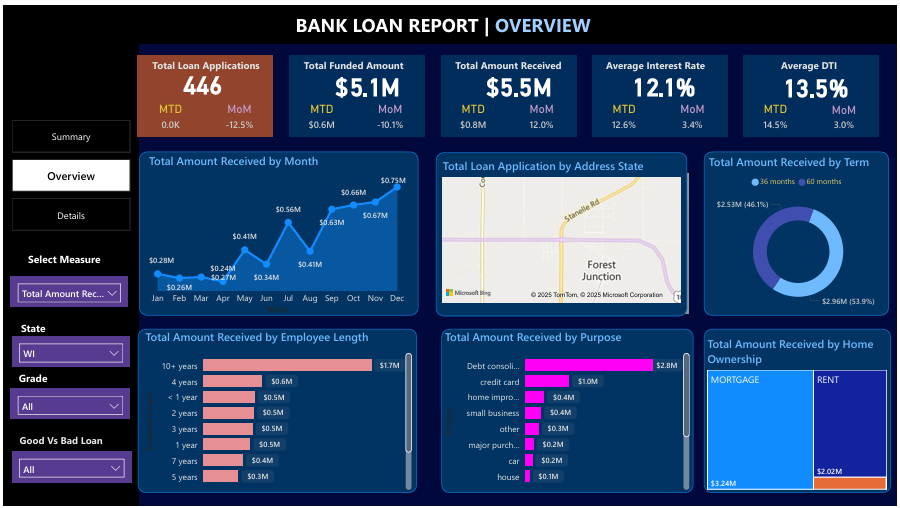

What the dashboard file says about the page in this screenshot:
{"tool":"powerbi","page":{"name":"Overview","canvas":[1280,720],"ordinal":1},"visuals":[{"type":"shape","box":[0,55.5,194.2,664.5],"z":0},{"type":"shape","box":[410.2,71.3,193.7,117],"z":0,"group":"g3"},{"type":"shape","box":[626.7,71.3,193.7,117],"z":0,"group":"g4"},{"type":"shape","box":[843.2,71.3,193.7,117],"z":0,"group":"g5"},{"type":"shape","box":[192.3,71.4,193.7,117],"z":0,"group":"g1"},{"type":"shape","box":[1059.7,71.9,193.7,117],"z":0,"group":"g6"},{"type":"shape","box":[0,0,1280.3,55],"z":1000},{"type":"card","fields":{"Values":["bank_loan_data.Total Loan Application"]},"box":[228.8,76.7,113.6,69.9],"z":1000,"group":"g1"},{"type":"card","fields":{"Values":["bank_loan_data.Total Funded Amount"]},"box":[447.1,82,147.9,64.6],"z":1000,"group":"g3"},{"type":"card","fields":{"Values":["bank_loan_data.Total Amount Received"]},"box":[663.6,82,147.9,64.6],"z":1000,"group":"g4"},{"type":"card","fields":{"Values":["bank_loan_data.Avg Interest Rate"]},"box":[872.1,82.5,147.9,64.6],"z":1000,"group":"g5"},{"type":"card","fields":{"Values":["bank_loan_data.Avg DTI"]},"box":[1088.6,83.1,147.9,64.6],"z":1000,"group":"g6"},{"type":"textbox","box":[204.7,71.3,197.8,40.3],"z":2000,"group":"g1"},{"type":"textbox","box":[420.9,71.3,197.8,40.3],"z":2000,"group":"g3"},{"type":"textbox","box":[637.4,71.3,197.8,40.3],"z":2000,"group":"g4"},{"type":"textbox","box":[853.9,71.3,197.8,40.3],"z":2000,"group":"g5"},{"type":"textbox","box":[1070.1,71.3,169.4,40.3],"z":2000,"group":"g6"},{"type":"textbox","box":[21.7,347.3,136.3,41],"z":2000,"group":"g8"},{"type":"textbox","box":[12.1,447.4,95.3,31.4],"z":2000,"group":"g7"},{"type":"textbox","box":[12.1,517.4,83.2,31.4],"z":2000},{"type":"card","title":"MTD","fields":{"Values":["bank_loan_data.MTD Loan Applications"]},"box":[204.7,137.2,69.5,51.1],"z":3000,"group":"g1"},{"type":"card","title":"MTD","fields":{"Values":["bank_loan_data.MTD Funded Applications"]},"box":[420.9,137.2,69.5,51.1],"z":3000,"group":"g3"},{"type":"card","title":"MTD","fields":{"Values":["bank_loan_data.MTD Total Amount Received"]},"box":[637.4,137.2,69.5,51.1],"z":3000,"group":"g4"},{"type":"card","title":"MTD","fields":{"Values":["bank_loan_data.MTD Average Interest Rate"]},"box":[853.9,137.2,69.5,51.1],"z":3000,"group":"g5"},{"type":"card","title":"MTD","fields":{"Values":["bank_loan_data.MTD Average DTI"]},"box":[1070.4,137.8,69.5,51.1],"z":3000,"group":"g6"},{"type":"textbox","box":[9.6,607.8,156.8,31.4],"z":3000},{"type":"group","id":"g1","title":"Group 2","box":[192.3,71.3,210.2,117.1],"z":3005,"group":"g2"},{"type":"card","title":"MoM","fields":{"Values":["bank_loan_data.MoM Loan Applications"]},"box":[303,138.2,69.5,49.8],"z":4000,"group":"g1"},{"type":"card","title":"MoM","fields":{"Values":["bank_loan_data.MoM Total Funded Amount"]},"box":[519.1,138.2,69.5,49.8],"z":4000,"group":"g3"},{"type":"card","title":"MoM","fields":{"Values":["bank_loan_data.MoM Total Amount Received"]},"box":[735.6,138.2,69.5,49.8],"z":4000,"group":"g4"},{"type":"card","title":"MoM","fields":{"Values":["bank_loan_data.MoM Average Interest Rate"]},"box":[952.1,138.2,69.5,49.8],"z":4000,"group":"g5"},{"type":"card","title":"MoM","fields":{"Values":["bank_loan_data.MoM Average DTI"]},"box":[1168.6,138.9,69.5,49.8],"z":4000,"group":"g6"},{"type":"shape","box":[194.3,208.6,400,235],"z":4000},{"type":"esriVisual","fields":{"Size":["bank_loan_data.Total Amount Received"],"Location":["bank_loan_data.address_state"]},"box":[627.1,209.8,359.4,237.6],"z":5000},{"type":"textbox","box":[412.9,4,520.4,45.7],"z":6000},{"type":"group","id":"g2","title":"Group 1","box":[192.3,71.3,210.2,117.1],"z":7000},{"type":"group","id":"g3","title":"Group 2","box":[410.2,71.3,208.4,117],"z":8000},{"type":"group","id":"g4","title":"Group 2","box":[626.7,71.3,208.4,117],"z":9000},{"type":"group","id":"g5","title":"Group 2","box":[843.2,71.3,208.4,117],"z":10000},{"type":"group","id":"g6","title":"Group 2","box":[1059.7,71.3,193.7,117],"z":11000},{"type":"slicer","fields":{"Values":["bank_loan_data.address_state"]},"box":[12.1,474,168.8,43.4],"z":12000},{"type":"slicer","fields":{"Values":["bank_loan_data.grade"]},"box":[9.6,548.7,171.3,44.6],"z":13000},{"type":"slicer","fields":{"Values":["bank_loan_data.Good Vs Bad Loan"]},"box":[12.1,639.2,171.3,44.6],"z":14000},{"type":"group","id":"g7","title":"Group 2","box":[12.1,447.4,95.3,31.4],"z":15000},{"type":"areaChart","fields":{"Y":["bank_loan_data.Total Amount Received"],"Category":["Date Table.Month"]},"box":[202.6,211.1,378.7,235.2],"z":16000},{"type":"slicer","fields":{"Values":["Select Measure.Select Measure"]},"box":[9.6,388.3,168.8,43.4],"z":17000},{"type":"group","id":"g8","title":"Group 2","box":[21.7,347.3,136.3,41],"z":18000},{"type":"shape","box":[618.7,209.8,360.6,235.2],"z":19000},{"type":"shape","box":[1003.4,208.6,264.1,235.2],"z":20000},{"type":"donutChart","fields":{"Y":["bank_loan_data.Total Amount Received"],"Category":["bank_loan_data.term"]},"box":[1004.6,212.3,266.5,232.8],"z":21000},{"type":"shape","box":[191.8,463.1,400.4,235.2],"z":22000},{"type":"barChart","fields":{"Y":["bank_loan_data.Total Amount Received"],"Category":["bank_loan_data.emp_length"]},"box":[197.8,463.1,390.8,235.2],"z":23000},{"type":"shape","box":[627.1,463.1,360.6,235.2],"z":24000},{"type":"barChart","fields":{"Y":["bank_loan_data.Total Amount Received"],"Category":["bank_loan_data.purpose"]},"box":[627.1,463.1,359.4,235.2],"z":25000},{"type":"shape","box":[1003.4,463.1,267.7,235.2],"z":26000},{"type":"treemap","fields":{"Values":["bank_loan_data.Total Amount Received"],"Group":["bank_loan_data.home_ownership"]},"box":[1003.4,474,266.5,224.3],"z":27000},{"type":"pageNavigator","box":[12.1,164,168.8,158],"z":28000},{"type":"filledMap","title":"Total Loan Application by Address State","fields":{"Y":["bank_loan_data.Total Amount Received"],"Category":["bank_loan_data.address_state"]},"box":[623.5,219.5,352.2,211.1],"z":29000}]}

Visuals, with their boxes in screenshot pixels (x1, y1, x2, y2), scaled from the page's 1280x720 canvas onto the 900x508 screenshot:
shape: [left=0, top=39, right=137, bottom=507]
shape: [left=288, top=50, right=425, bottom=133]
shape: [left=441, top=50, right=577, bottom=133]
shape: [left=593, top=50, right=729, bottom=133]
shape: [left=135, top=50, right=271, bottom=133]
shape: [left=745, top=51, right=881, bottom=133]
shape: [left=0, top=0, right=899, bottom=39]
card - bank_loan_data.Total Loan Application: [left=161, top=54, right=241, bottom=103]
card - bank_loan_data.Total Funded Amount: [left=314, top=58, right=418, bottom=103]
card - bank_loan_data.Total Amount Received: [left=467, top=58, right=571, bottom=103]
card - bank_loan_data.Avg Interest Rate: [left=613, top=58, right=717, bottom=104]
card - bank_loan_data.Avg DTI: [left=765, top=59, right=869, bottom=104]
textbox: [left=144, top=50, right=283, bottom=79]
textbox: [left=296, top=50, right=435, bottom=79]
textbox: [left=448, top=50, right=587, bottom=79]
textbox: [left=600, top=50, right=739, bottom=79]
textbox: [left=752, top=50, right=872, bottom=79]
textbox: [left=15, top=245, right=111, bottom=274]
textbox: [left=9, top=316, right=76, bottom=338]
textbox: [left=9, top=365, right=67, bottom=387]
"MTD" card: [left=144, top=97, right=193, bottom=133]
"MTD" card: [left=296, top=97, right=345, bottom=133]
"MTD" card: [left=448, top=97, right=497, bottom=133]
"MTD" card: [left=600, top=97, right=649, bottom=133]
"MTD" card: [left=753, top=97, right=801, bottom=133]
textbox: [left=7, top=429, right=117, bottom=451]
"Group 2" group: [left=135, top=50, right=283, bottom=133]
"MoM" card: [left=213, top=98, right=262, bottom=133]
"MoM" card: [left=365, top=98, right=414, bottom=133]
"MoM" card: [left=517, top=98, right=566, bottom=133]
"MoM" card: [left=669, top=98, right=718, bottom=133]
"MoM" card: [left=822, top=98, right=871, bottom=133]
shape: [left=137, top=147, right=418, bottom=313]
esriVisual - bank_loan_data.Total Amount Received x bank_loan_data.address_state: [left=441, top=148, right=694, bottom=316]
textbox: [left=290, top=3, right=656, bottom=35]
"Group 1" group: [left=135, top=50, right=283, bottom=133]
"Group 2" group: [left=288, top=50, right=435, bottom=133]
"Group 2" group: [left=441, top=50, right=587, bottom=133]
"Group 2" group: [left=593, top=50, right=739, bottom=133]
"Group 2" group: [left=745, top=50, right=881, bottom=133]
slicer - bank_loan_data.address_state: [left=9, top=334, right=127, bottom=365]
slicer - bank_loan_data.grade: [left=7, top=387, right=127, bottom=419]
slicer - bank_loan_data.Good Vs Bad Loan: [left=9, top=451, right=129, bottom=482]
"Group 2" group: [left=9, top=316, right=76, bottom=338]
areaChart - bank_loan_data.Total Amount Received x Date Table.Month: [left=142, top=149, right=409, bottom=315]
slicer - Select Measure.Select Measure: [left=7, top=274, right=125, bottom=305]
"Group 2" group: [left=15, top=245, right=111, bottom=274]
shape: [left=435, top=148, right=689, bottom=314]
shape: [left=706, top=147, right=891, bottom=313]
donutChart - bank_loan_data.Total Amount Received x bank_loan_data.term: [left=706, top=150, right=894, bottom=314]
shape: [left=135, top=327, right=416, bottom=493]
barChart - bank_loan_data.Total Amount Received x bank_loan_data.emp_length: [left=139, top=327, right=414, bottom=493]
shape: [left=441, top=327, right=694, bottom=493]
barChart - bank_loan_data.Total Amount Received x bank_loan_data.purpose: [left=441, top=327, right=694, bottom=493]
shape: [left=706, top=327, right=894, bottom=493]
treemap - bank_loan_data.Total Amount Received x bank_loan_data.home_ownership: [left=706, top=334, right=893, bottom=493]
pageNavigator: [left=9, top=116, right=127, bottom=227]
"Total Loan Application by Address State" filledMap: [left=438, top=155, right=686, bottom=304]
